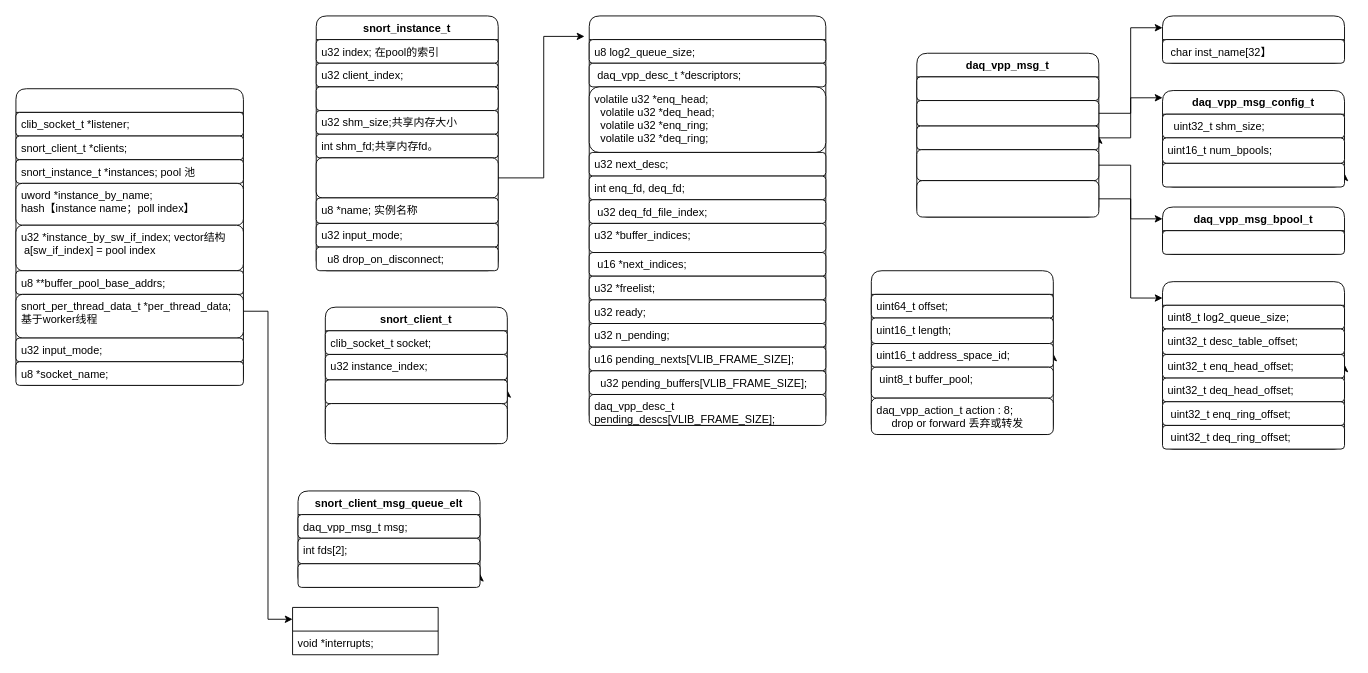
Some shapes in this 1368 by 673 pixel diagram are drawn without their labels. The shapes that lost their labels are listed below. From the top down, each one's box as (x1, y1, x2, y2) in pixels, then its label:
(1162, 15, 1345, 63): daq_vpp_msg_hello_t
(315, 86, 498, 111): void *shm_base; 共享内存基址
(916, 76, 1099, 101): daq_vpp_msg_type_t type : 8;
(916, 100, 1099, 126): daq_vpp_msg_hello_t hello;
(916, 125, 1099, 150): daq_vpp_msg_config_t config;
(315, 157, 498, 198): snort_qpair_t *qpairs; 基于worker线程
(916, 149, 1099, 181): daq_vpp_msg_bpool_t bpool;
(1162, 162, 1345, 187): uint16_t num_qpairs;
(916, 180, 1099, 217): daq_vpp_msg_qpair_t qpair;
(15, 88, 243, 385): snort_main_t
(588, 15, 826, 425): snort_qpair_t
(1162, 230, 1345, 254): uint32_t size;
(870, 270, 1053, 435): daq_vpp_desc_t
(1162, 281, 1345, 449): daq_vpp_msg_qpair_t
(324, 379, 507, 404): u32 file_index;
(324, 403, 507, 444): snort_client_msg_queue_elt *msg_queue;
(297, 563, 480, 587): int n_fds;
(292, 607, 438, 655): snort_per_thread_data_t
